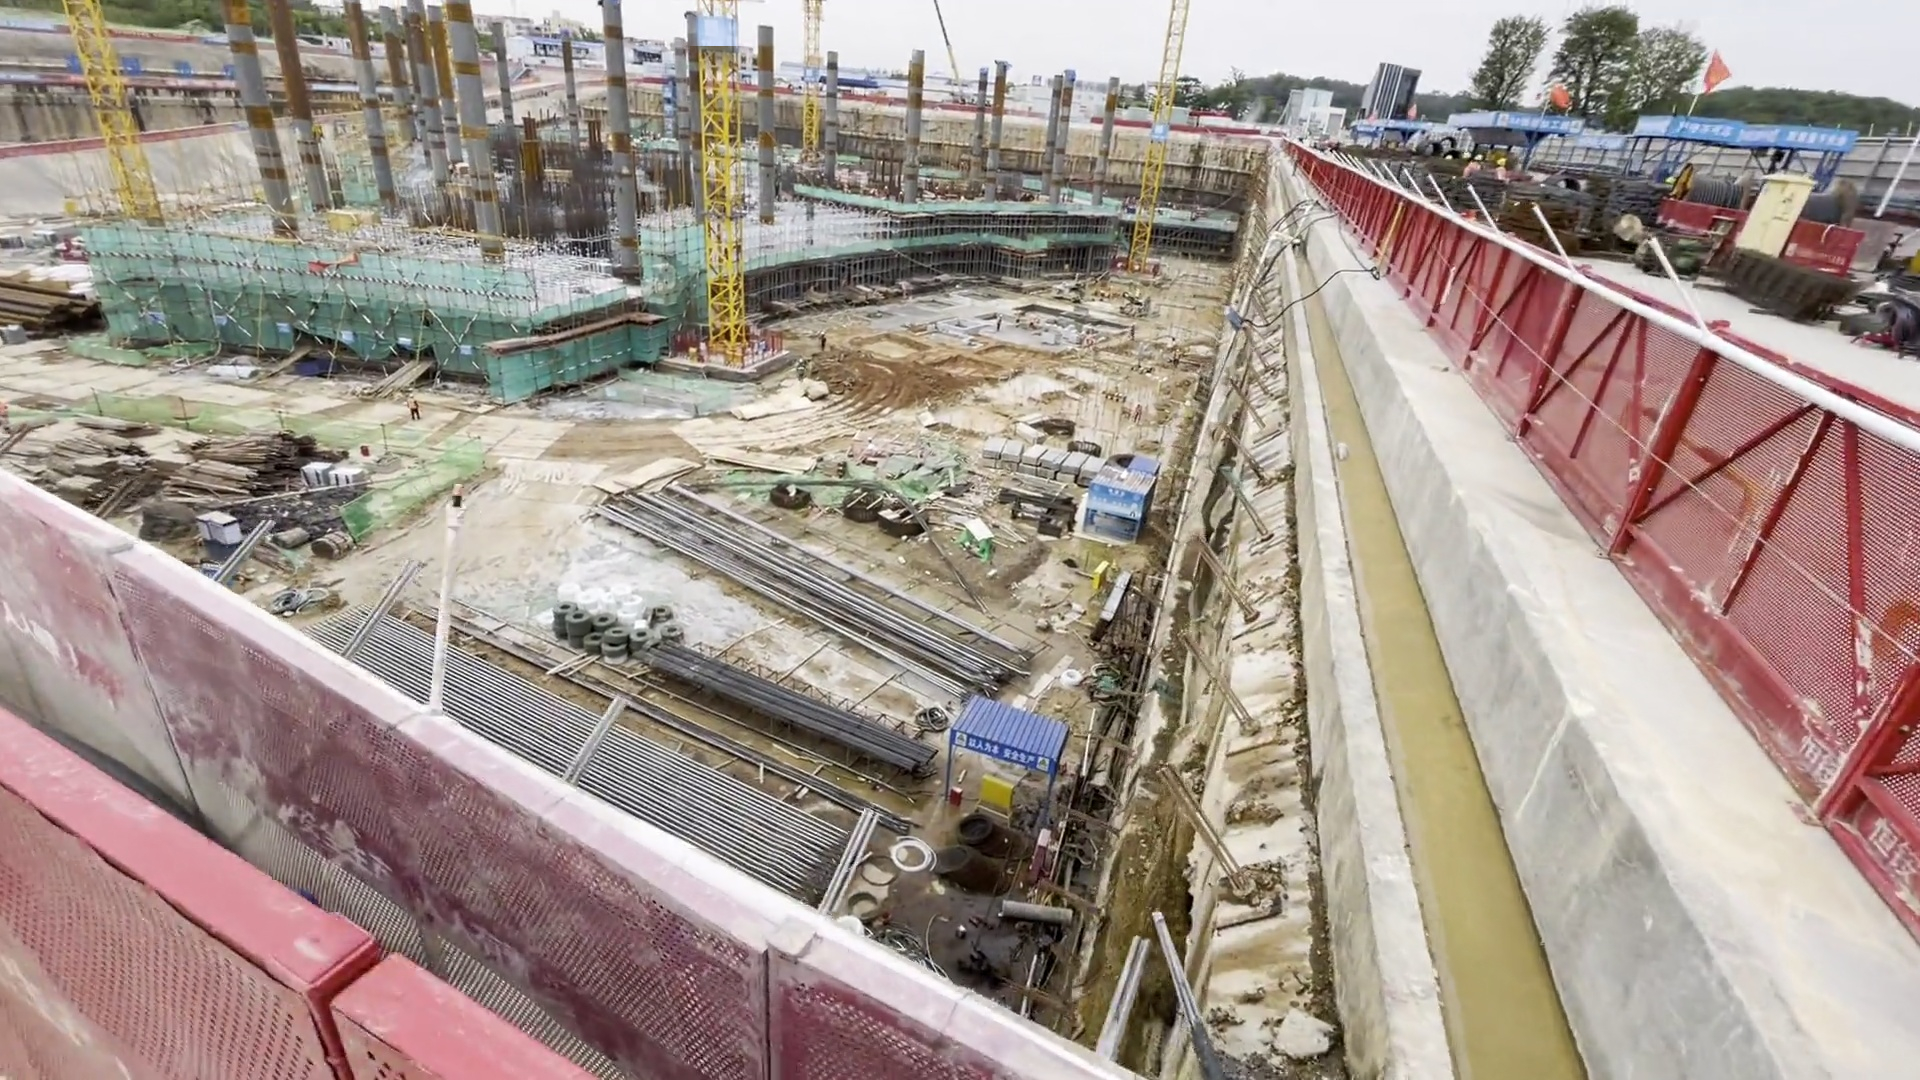brick: (985, 451, 1102, 499), (304, 462, 367, 490)
ebox: (723, 348, 742, 367)
fence: (8, 474, 639, 938), (1493, 301, 1920, 709)
helmet: (1469, 152, 1485, 162), (1494, 155, 1508, 166), (409, 393, 416, 399), (998, 313, 1003, 319), (820, 330, 825, 335)
hopper: (294, 359, 338, 375)
person: (1461, 150, 1484, 175), (1494, 153, 1511, 184), (405, 391, 422, 421), (815, 330, 831, 353), (994, 311, 1006, 338)
rebar: (665, 643, 933, 775)
slogan: (954, 734, 1046, 768), (1671, 119, 1747, 147), (1785, 125, 1851, 152)
vest: (408, 398, 418, 411)
wood: (183, 433, 302, 492)
